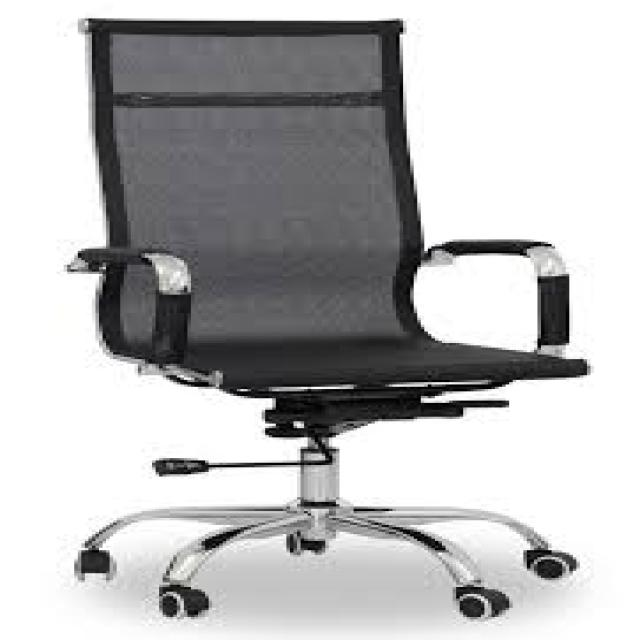chair: (14, 3, 640, 640)
